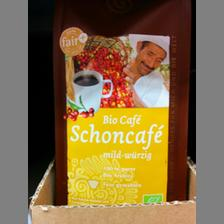Kaffee: (50, 0, 192, 206)
